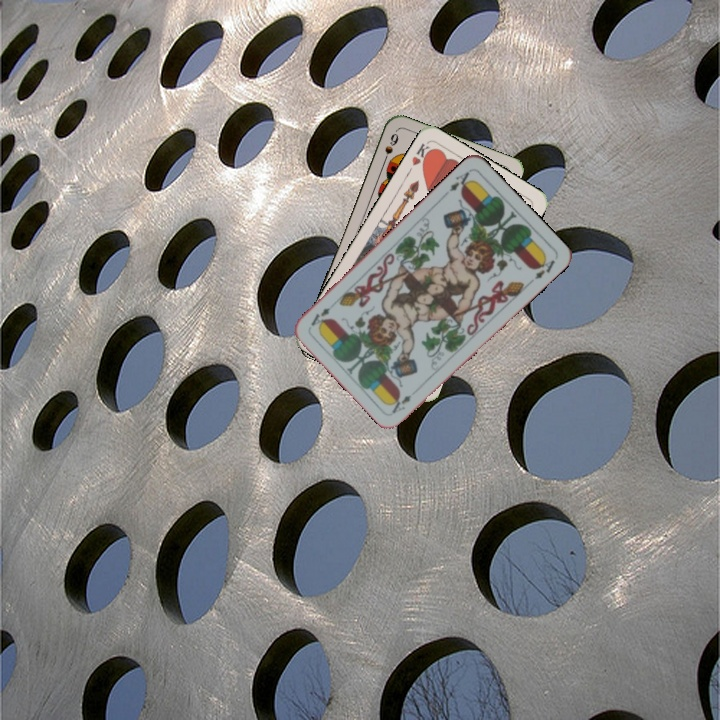EA: (440, 166, 475, 198), (388, 391, 414, 416)
HK: (404, 139, 436, 175)
S9: (379, 129, 401, 167)
